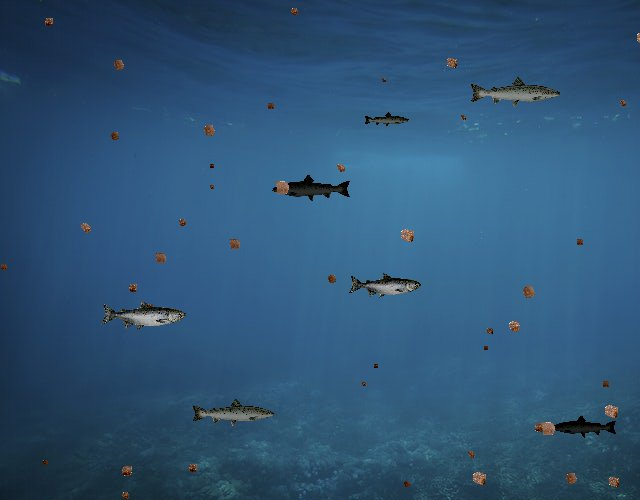Fish: (469, 75, 563, 109), (190, 397, 276, 428), (100, 300, 186, 331), (272, 173, 353, 202), (348, 273, 421, 299), (550, 415, 618, 439), (363, 111, 410, 128)
Pellet: (516, 279, 542, 305), (502, 314, 527, 339), (75, 217, 96, 239), (482, 324, 497, 338), (206, 182, 216, 192)
